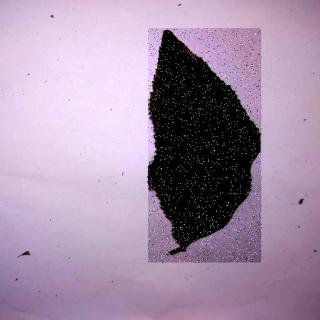Anthracnose: (150, 30, 264, 265)
